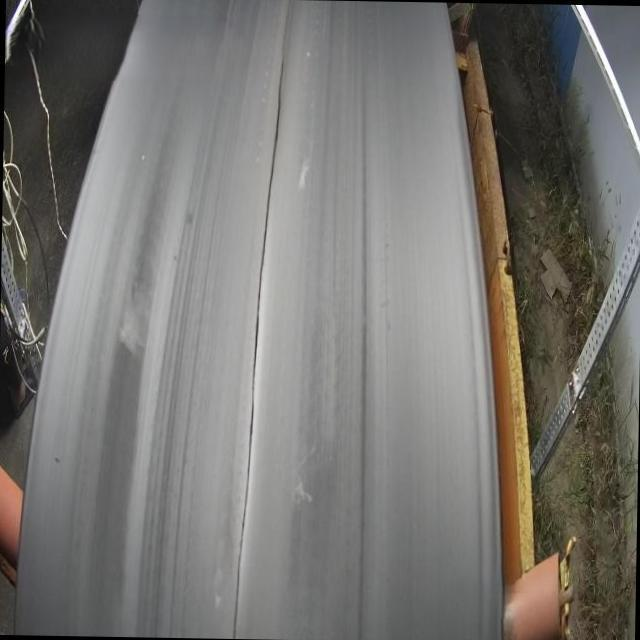Tear: (228, 50, 294, 640)
